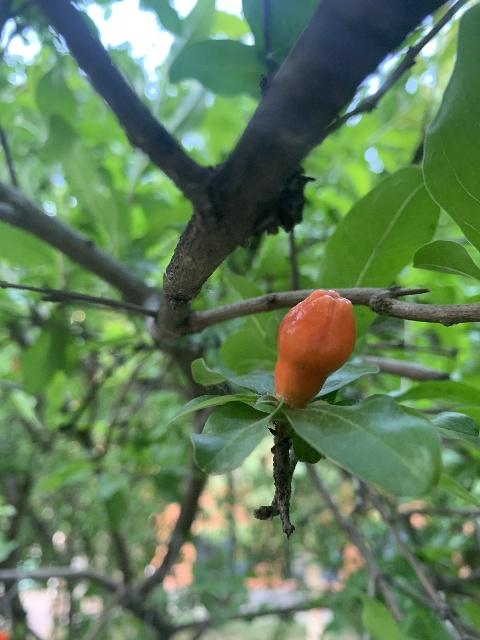bud: (274, 288, 356, 409)
